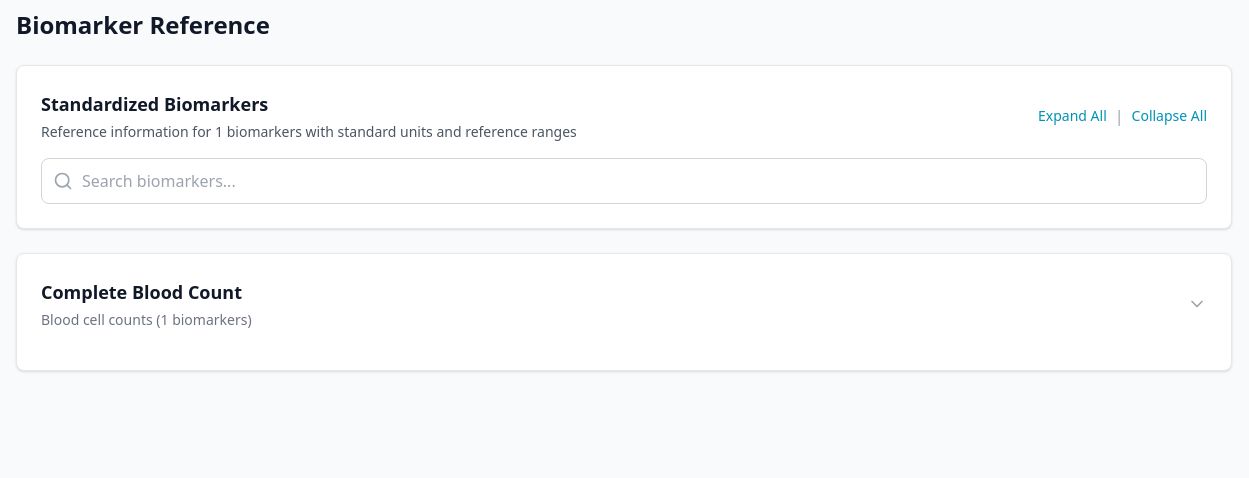
Test: BiomarkersPage › biomarker row details › displays different reference ranges for male and female
# Expand the CBC category
Step 1. Click the heading "Complete Blood Count" → coordinates (146, 292), box [41,278,252,306]
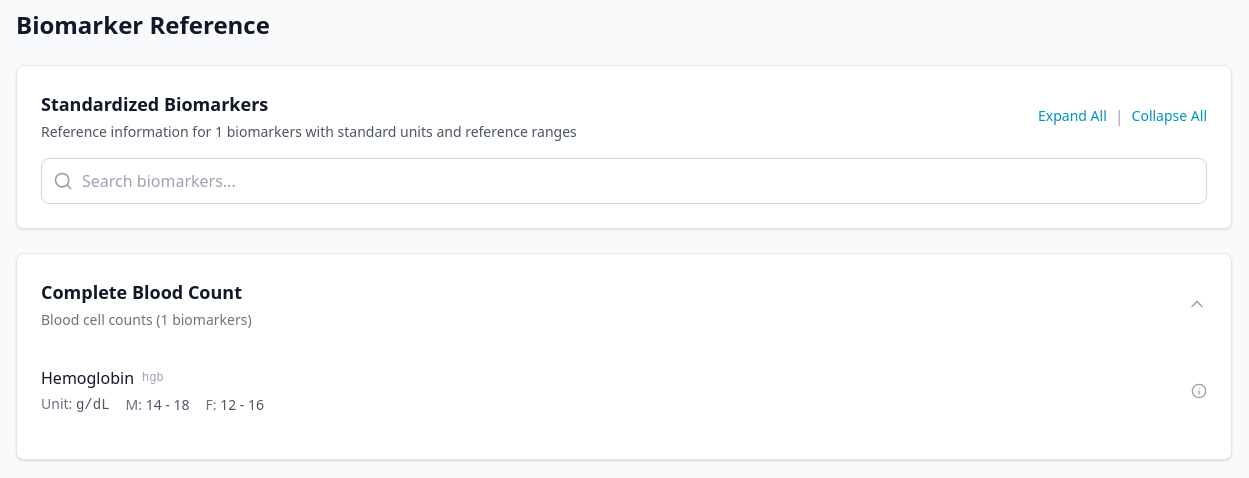
Expected: the text "M:" is shown, [126,394,146,414]
Expected: the text "F:" is shown, [206,394,220,414]
